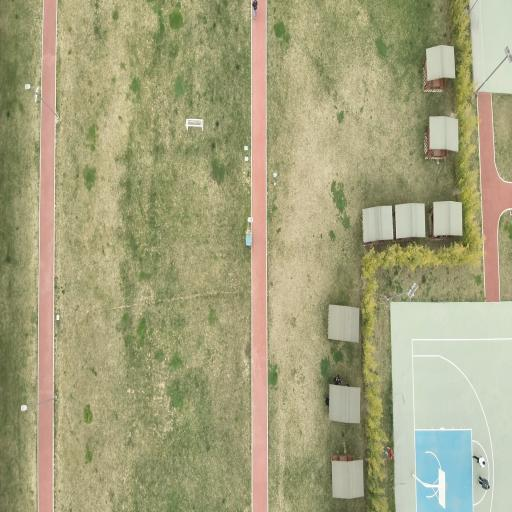person: (478, 476, 489, 490), (473, 456, 485, 467), (383, 448, 393, 460), (252, 0, 257, 18), (334, 375, 341, 384), (325, 397, 329, 406)
